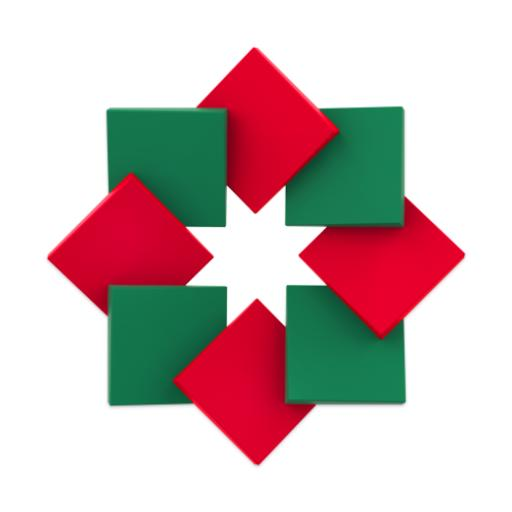Pasha Bank: (45, 44, 468, 468)
